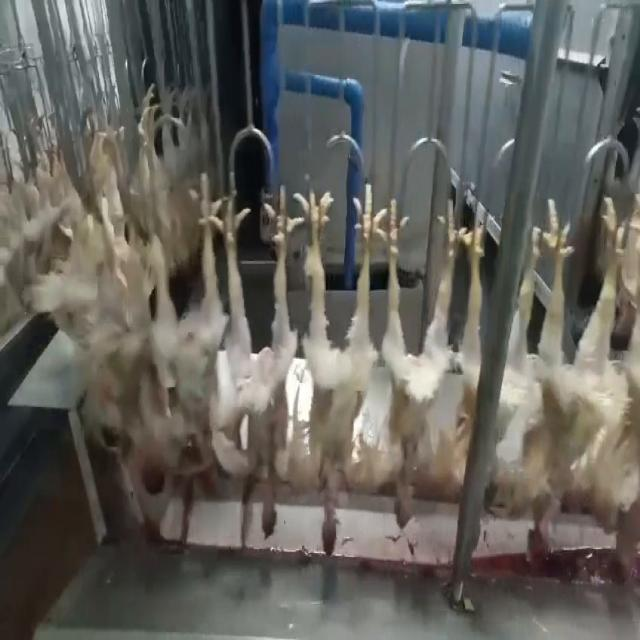chicken: (499, 194, 623, 567), (358, 192, 470, 528), (221, 179, 308, 542), (299, 186, 377, 554), (152, 180, 216, 487), (593, 195, 637, 578), (442, 187, 494, 488), (106, 178, 149, 502)
